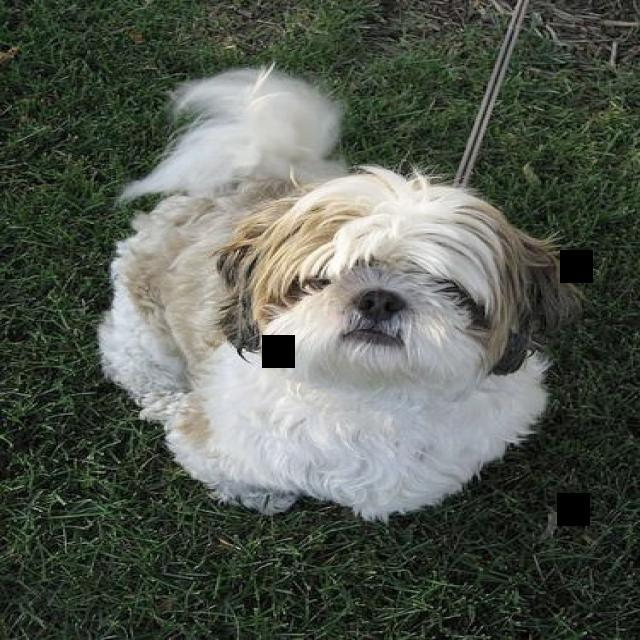adult_dog: (98, 54, 590, 521)
